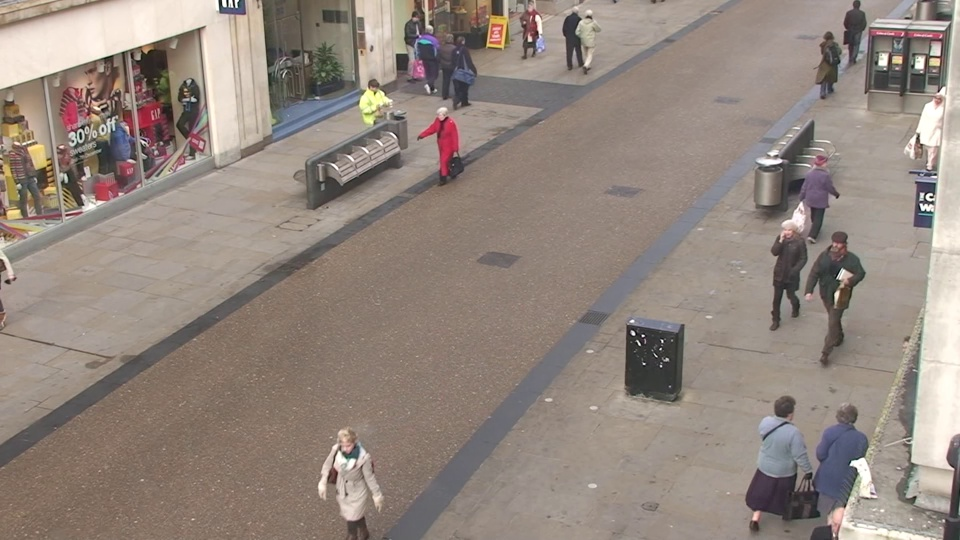pedestrian: (811, 391, 874, 540), (749, 385, 809, 540), (323, 417, 385, 540), (810, 227, 859, 353), (764, 214, 808, 337), (911, 88, 956, 182), (797, 148, 837, 253), (428, 104, 460, 196), (360, 75, 390, 158), (810, 28, 841, 103), (447, 33, 473, 106), (436, 31, 462, 103), (417, 22, 442, 91), (404, 8, 428, 73), (578, 7, 601, 72), (564, 2, 587, 66), (521, 0, 543, 64)
